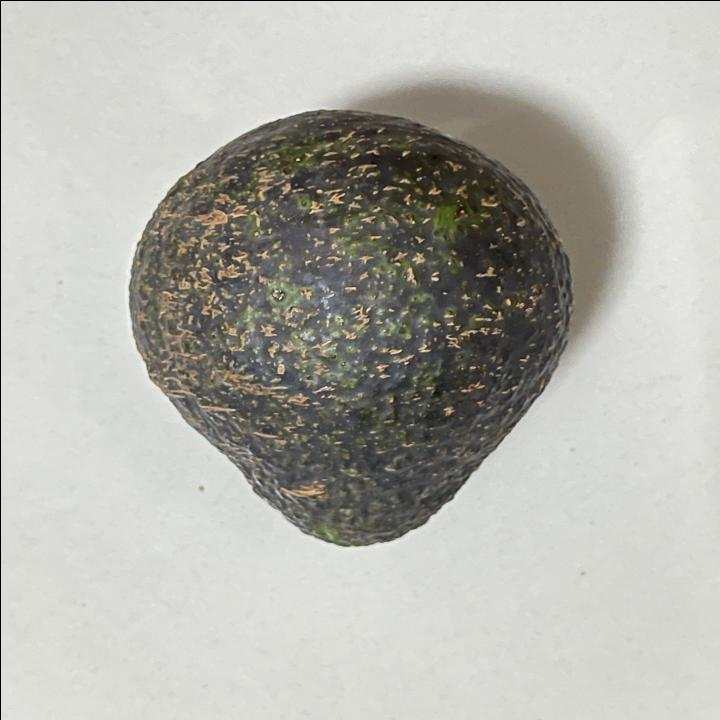Level1: (113, 95, 589, 561)
